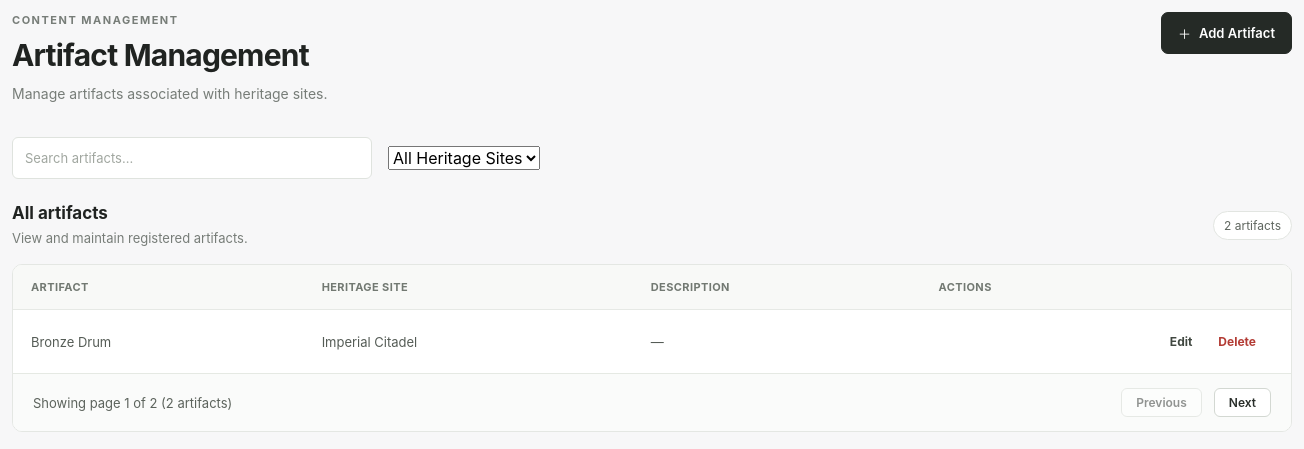
Test: ArtifactsPage — Heritage Site filter & pagination › searches by name and supports M2 backend PageResponse with pagination
Expected: the text "Bronze Drum" is shown, x1=13 y1=310 x2=304 y2=373
Expected: the text "Showing page 1 of 2 (2 artifacts)" is shown, x1=33 y1=395 x2=232 y2=411
Click the button with aria-label "next page".
click(1242, 403)  # box x1=1214 y1=388 x2=1271 y2=417
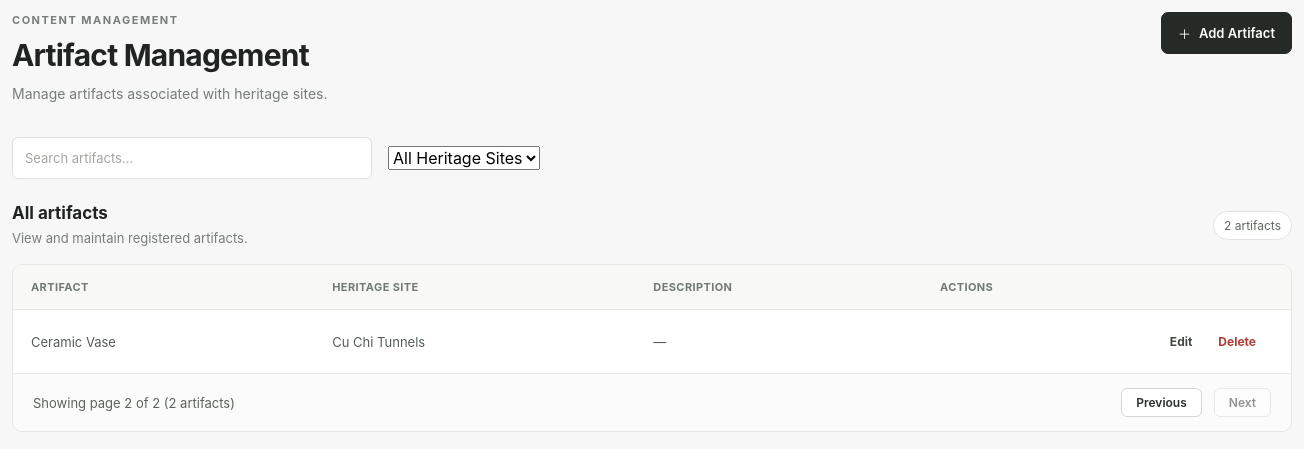
Expected: the text "Ceramic Vase" is shown, x1=13 y1=310 x2=314 y2=373
Expected: the text "Showing page 2 of 2 (2 artifacts)" is shown, x1=33 y1=395 x2=235 y2=411
Expected: the button with aria-label "next page" is disabled, x1=1214 y1=388 x2=1271 y2=417
